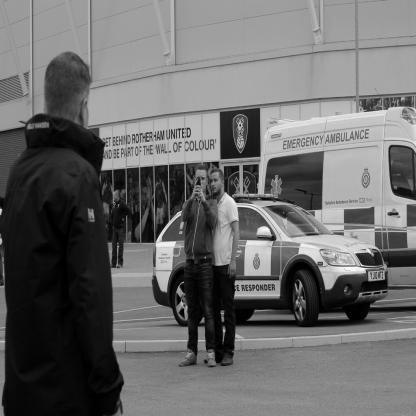ambulance: (261, 103, 416, 201)
car: (151, 182, 397, 329)
